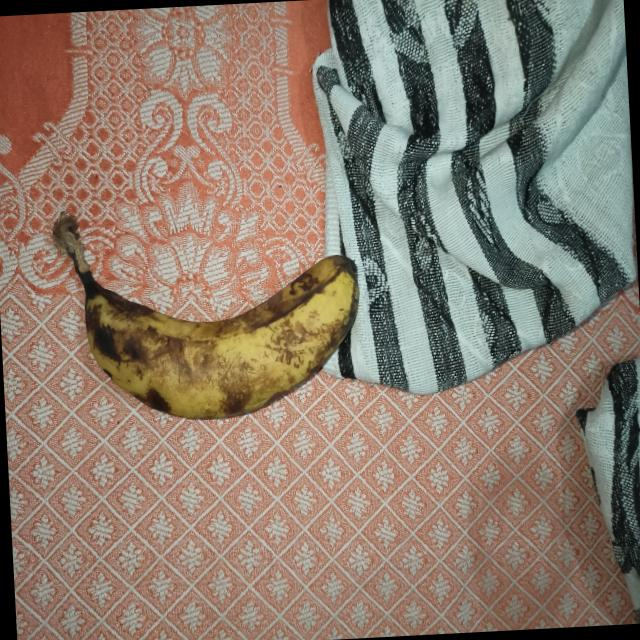banana_peel: (27, 194, 391, 453)
